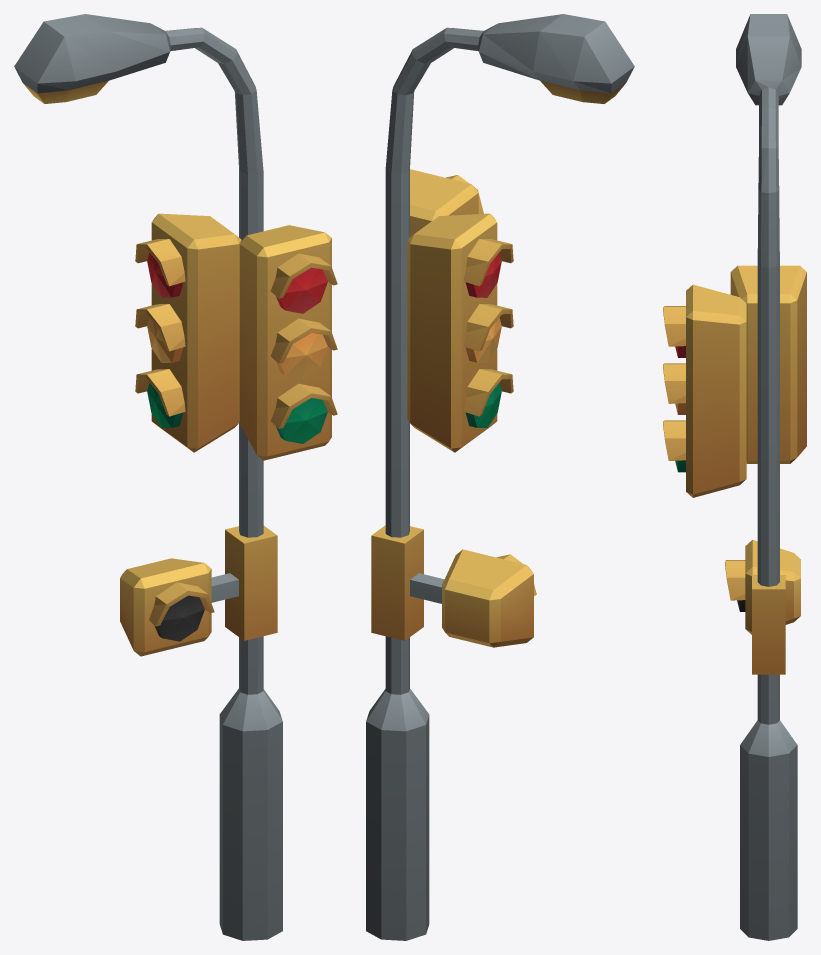
The model's file is trafficlight_B.obj.
3 views of the same model, side by side, from view 1: azimuth 30°, elevation 25°; view 2: azimuth 150°, elevation 25°; view 3: azimuth 270°, elevation 25° (orthographic). The views are drawn at different scales.
Size of the model in its own units: 0.2791 by 0.9599 by 0.1506.
Materials: 1 (1 with a texture image).
